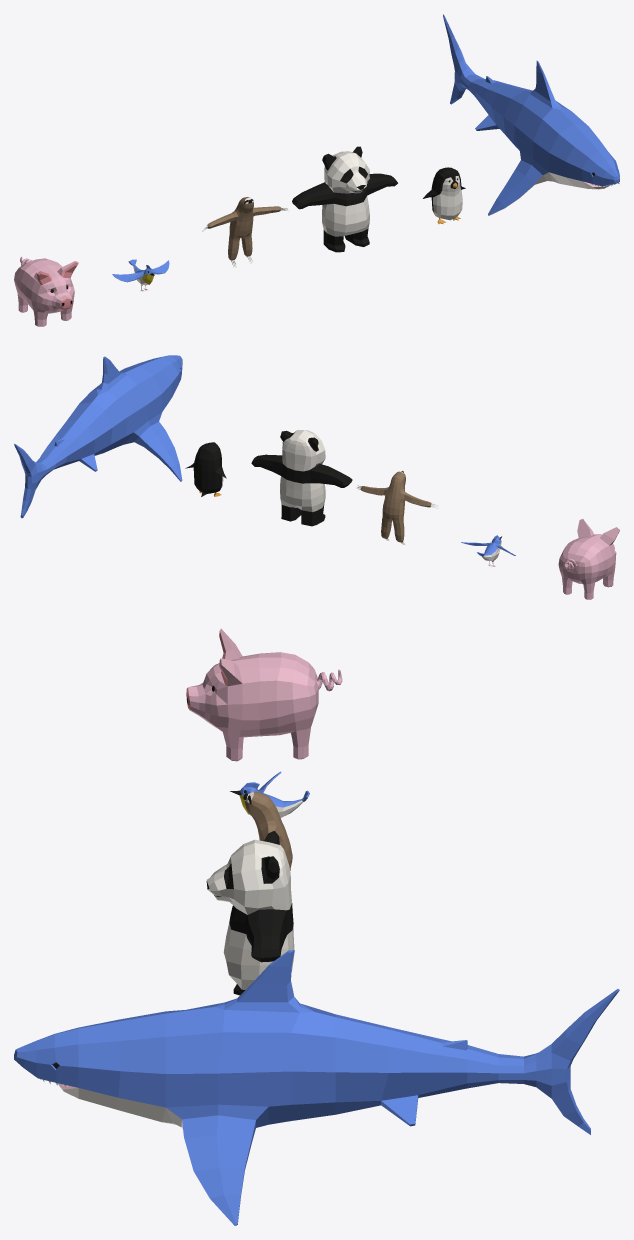
Rendered from origami_animals_pack.glb.
The picture shows the model from 3 angles, top to bottom: view 1: azimuth 30°, elevation 25°; view 2: azimuth 150°, elevation 25°; view 3: azimuth 270°, elevation 25°; orthographic projection. The views are drawn at different scales.
Visible parts, largest first — view 1: Cube.003, Plane, Cube, Cube.013, Cube.002, Cube.001; view 2: Cube.003, Plane, Cube, Cube.013, Cube.002, Cube.001; view 3: Cube.003, Cube, Plane, Cube.013, Cube.001.
Part boxes in pixels (left/top/right/bottom): Cube.003: left=443, top=14, right=619, bottom=215; Plane: left=292, top=146, right=397, bottom=252; Cube: left=14, top=256, right=78, bottom=326; Cube.013: left=207, top=197, right=280, bottom=260; Cube.002: left=423, top=167, right=465, bottom=224; Cube.001: left=112, top=259, right=169, bottom=291; Cube.003: left=14, top=355, right=182, bottom=518; Plane: left=251, top=430, right=352, bottom=526; Cube: left=558, top=519, right=619, bottom=599; Cube.013: left=360, top=471, right=431, bottom=542; Cube.002: left=185, top=442, right=226, bottom=496; Cube.001: left=461, top=535, right=515, bottom=566; Cube.003: left=14, top=950, right=619, bottom=1225; Cube: left=186, top=628, right=342, bottom=761; Plane: left=206, top=831, right=294, bottom=995; Cube.013: left=243, top=791, right=292, bottom=870; Cube.001: left=230, top=771, right=309, bottom=817.
Bounding box in the file's own units: 29.34 × 6.1 × 15.12.
